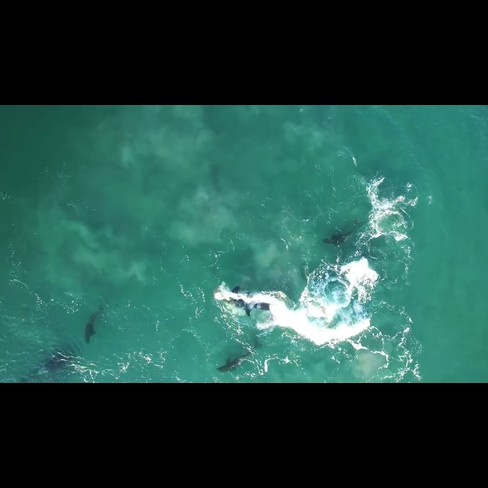orca: (215, 278, 293, 321), (209, 340, 275, 377), (318, 223, 365, 251), (78, 298, 104, 346)
